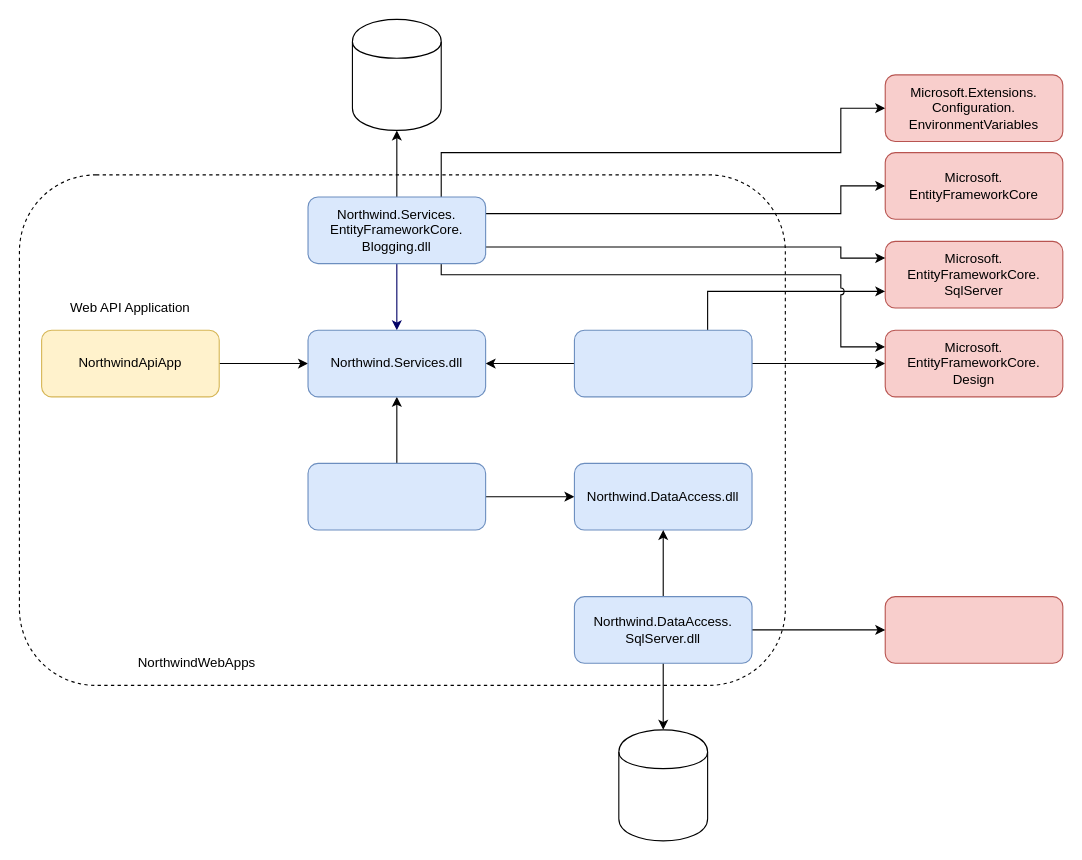
Some shapes in this 1082 by 860 pixel diagram are drawn without their labels. The centre of each missing label's shape, as x and y in pixels:
Northwind: [663,785]
Northwind Blogging: [396,74]
Northwind.Services. DataAccess.dll: [396,496]
Northwind.Services. EntityFrameworkCore.dll: [662,363]
System.Data.SqlClient: [973,629]
